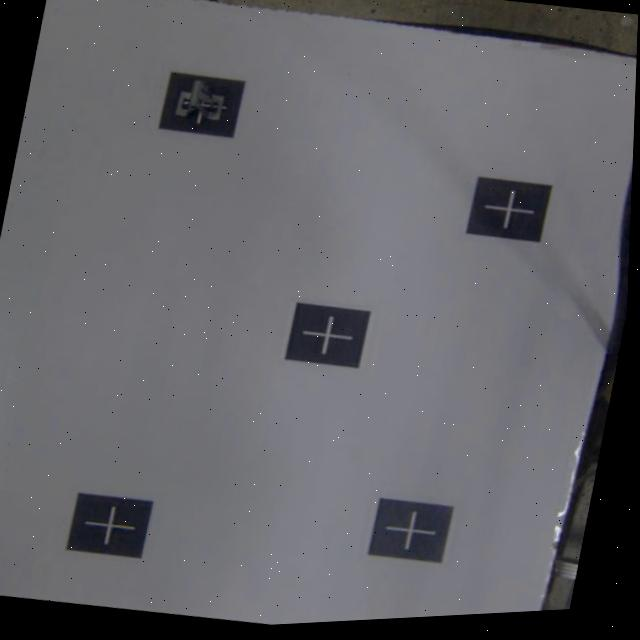pick5: (155, 64, 246, 140)
